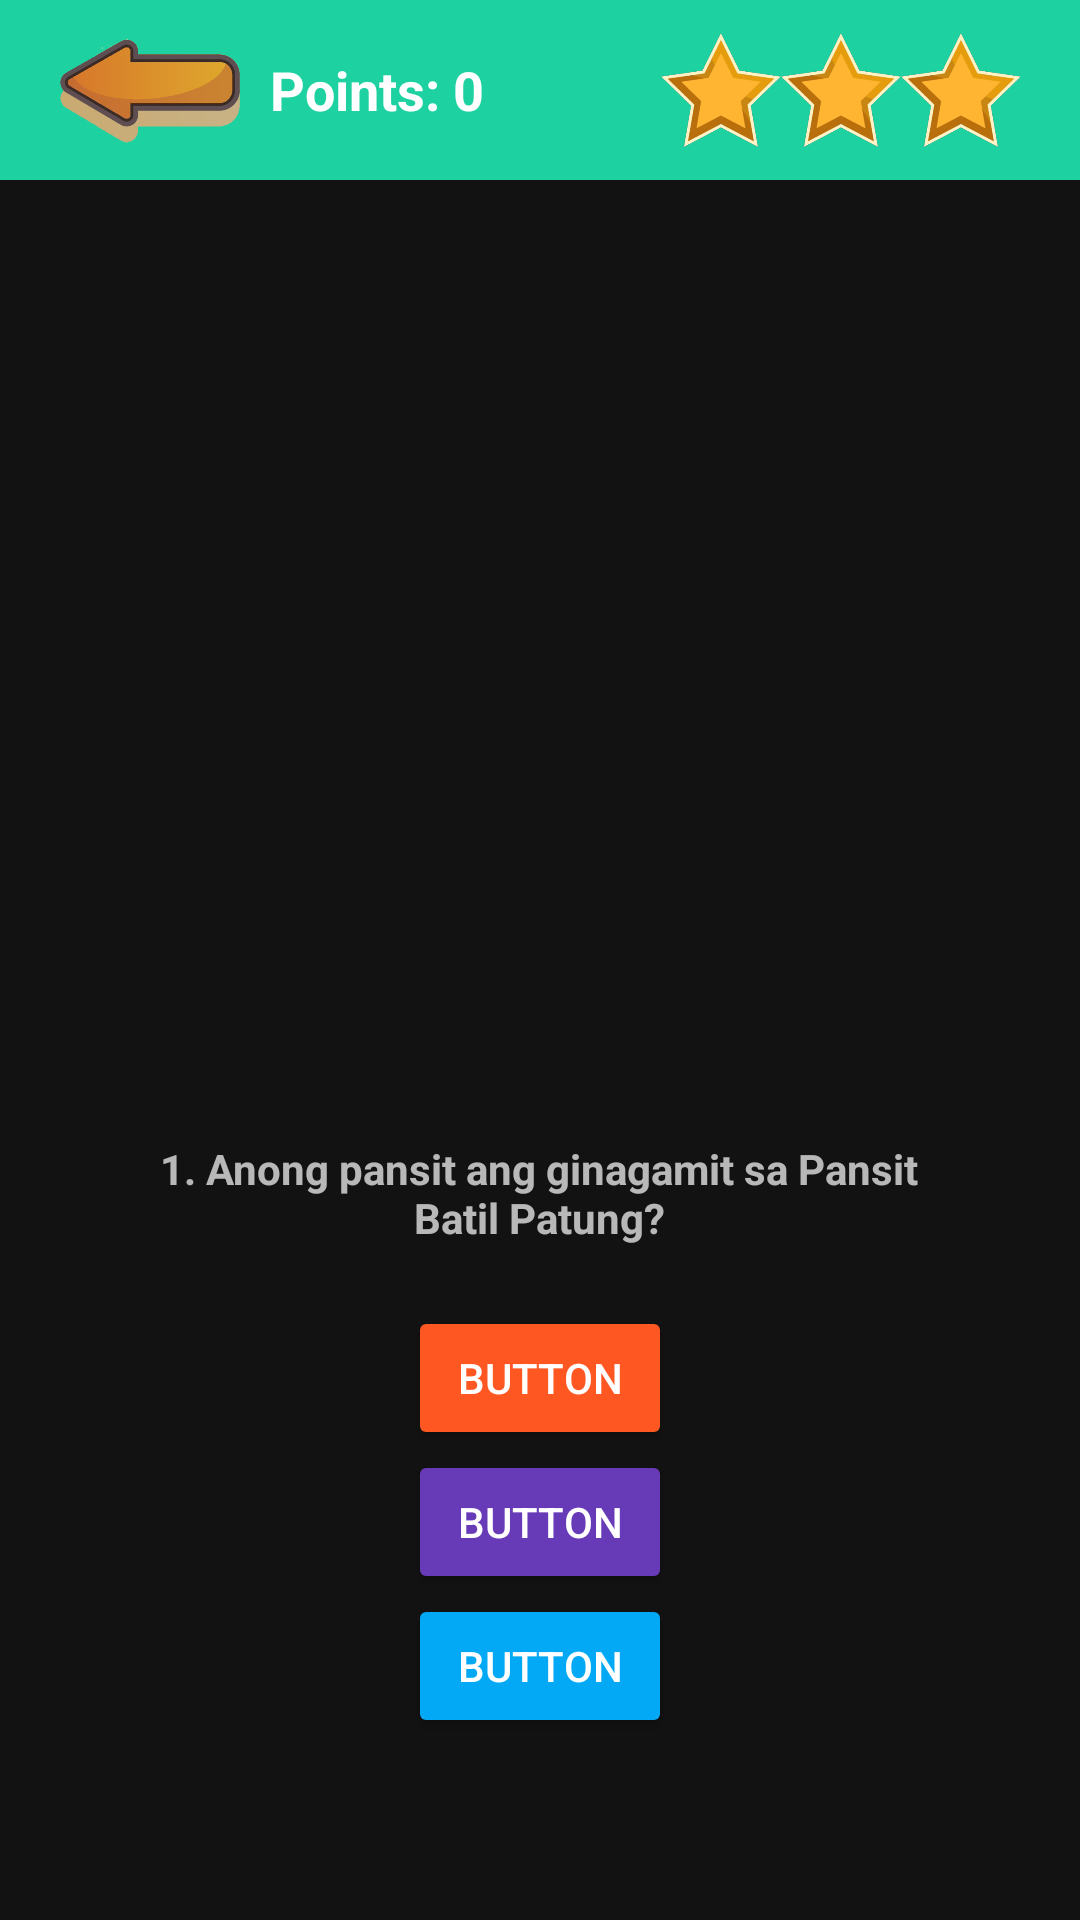

Where to tap for icons on this 1080 x 1920 app screen, as point (x, y):
quiz back: point (150, 91)
quiz life: point (721, 90), point (841, 90), point (961, 90)
